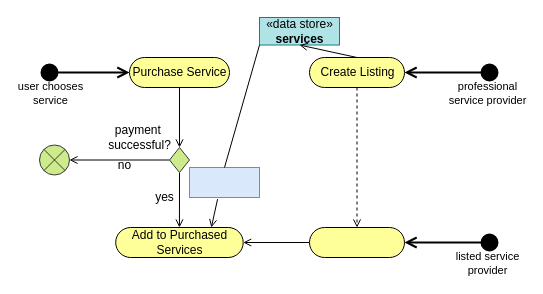
Image size: 543x294. Some labels were removed from this diagram. The shapes that lost their labels are listed below. From the top down, each one's centre as x and y in pixels, then its label:
At [224,182]: "Purchased Services".
At [356,242]: "Provide Service".
